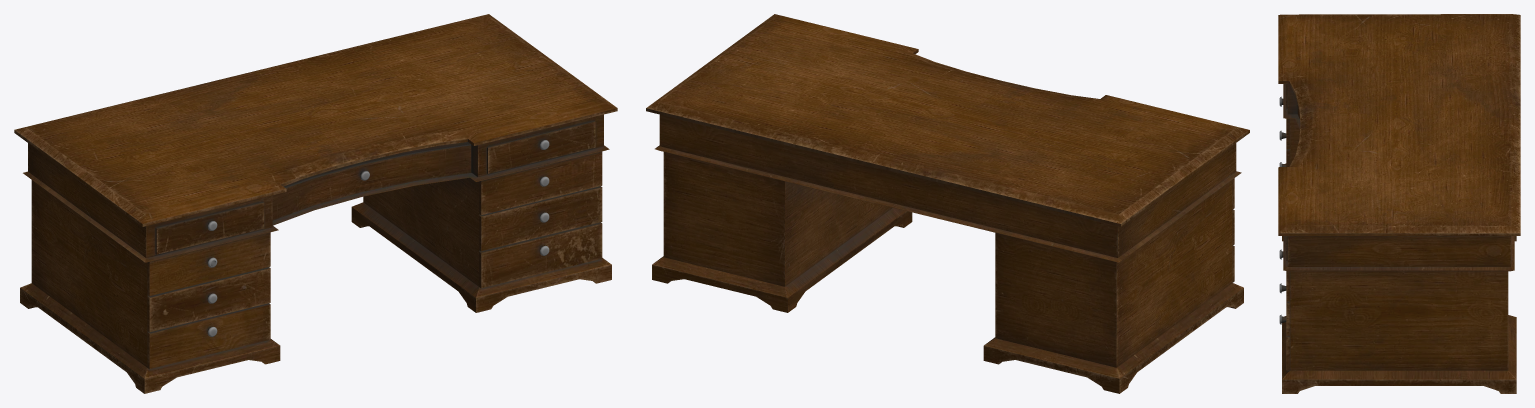
The model's file is furniture_desk.a7e7b8a01a72.glb.
The picture shows the model from 3 angles, left to right: view 1: azimuth 30°, elevation 25°; view 2: azimuth 150°, elevation 25°; view 3: azimuth 270°, elevation 25°; orthographic projection. The views are drawn at different scales.
Visible parts, largest first — view 1: Disc_4; view 2: Disc_4; view 3: Disc_4.
Part boxes in pixels (x1=…): Disc_4: x1=14, y1=14, x2=617, y2=393; Disc_4: x1=646, y1=14, x2=1249, y2=393; Disc_4: x1=1278, y1=14, x2=1520, y2=393.
Bounding box in the file's own units: 2.27 × 0.8071 × 1.07.
Materials: 1 (1 with a texture image).
